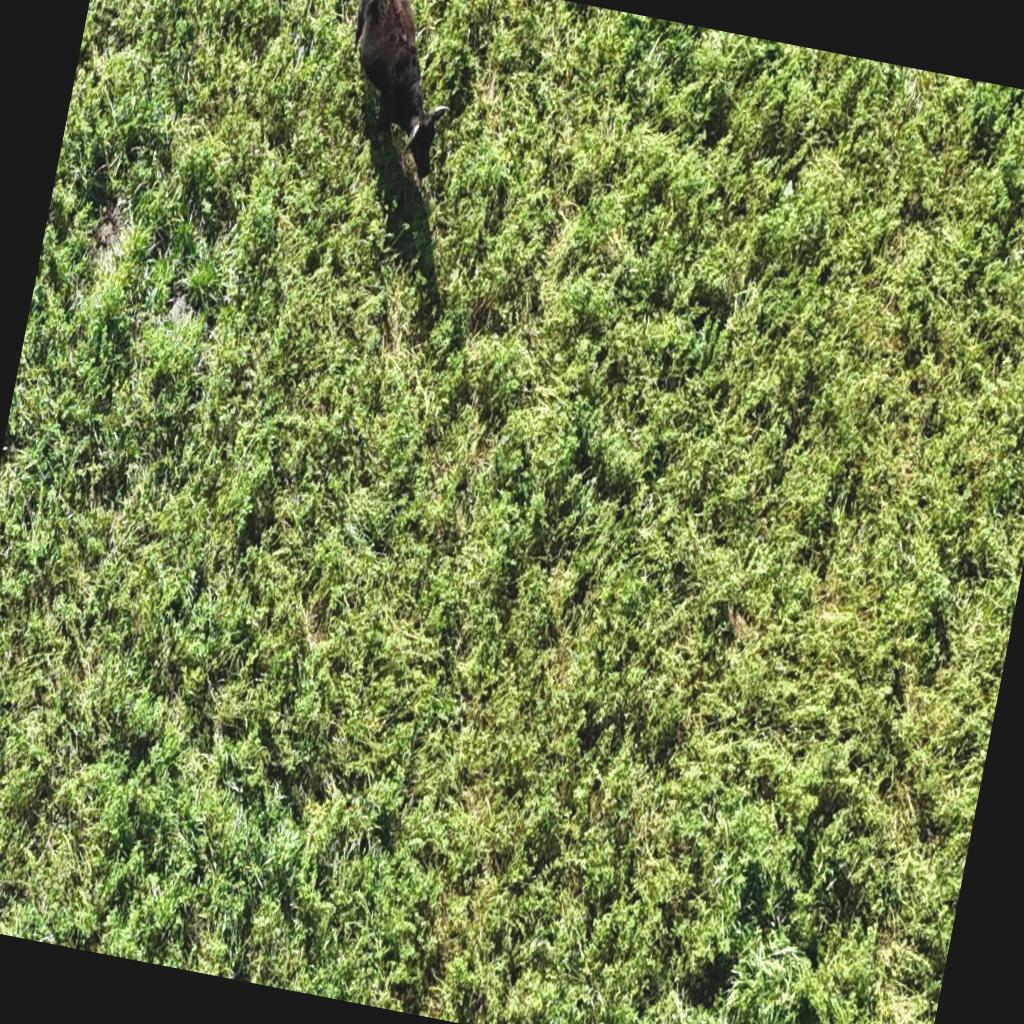cow: (318, 0, 477, 201)
